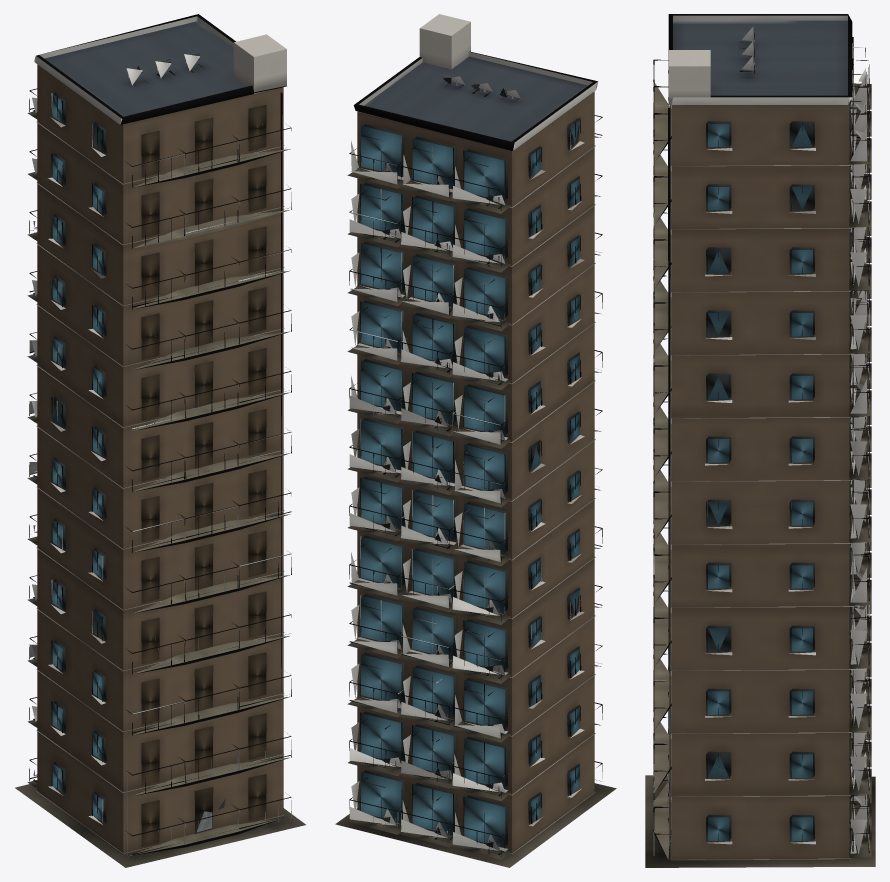
The model's file is residential_009.obj.
3 renders of one model, left to right at view 1: azimuth 30°, elevation 25°; view 2: azimuth 150°, elevation 25°; view 3: azimuth 270°, elevation 25°, orthographic. The views are drawn at different scales.
Parts seen in each view (by area): view 1: residential_009; view 2: residential_009; view 3: residential_009.
Boxes of the visible parts, box(x1,y1,x2,y2) form: residential_009: box(15, 14, 305, 867); residential_009: box(335, 14, 616, 867); residential_009: box(645, 14, 875, 867).
Bounding box in the file's own units: 8.27 × 33.62 × 8.8.
1 material, 1 textured.
